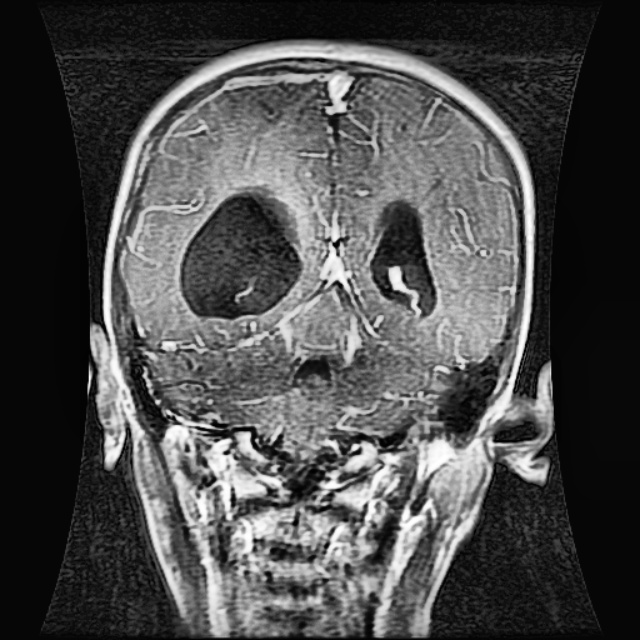Meningioma: (174, 184, 365, 365)
